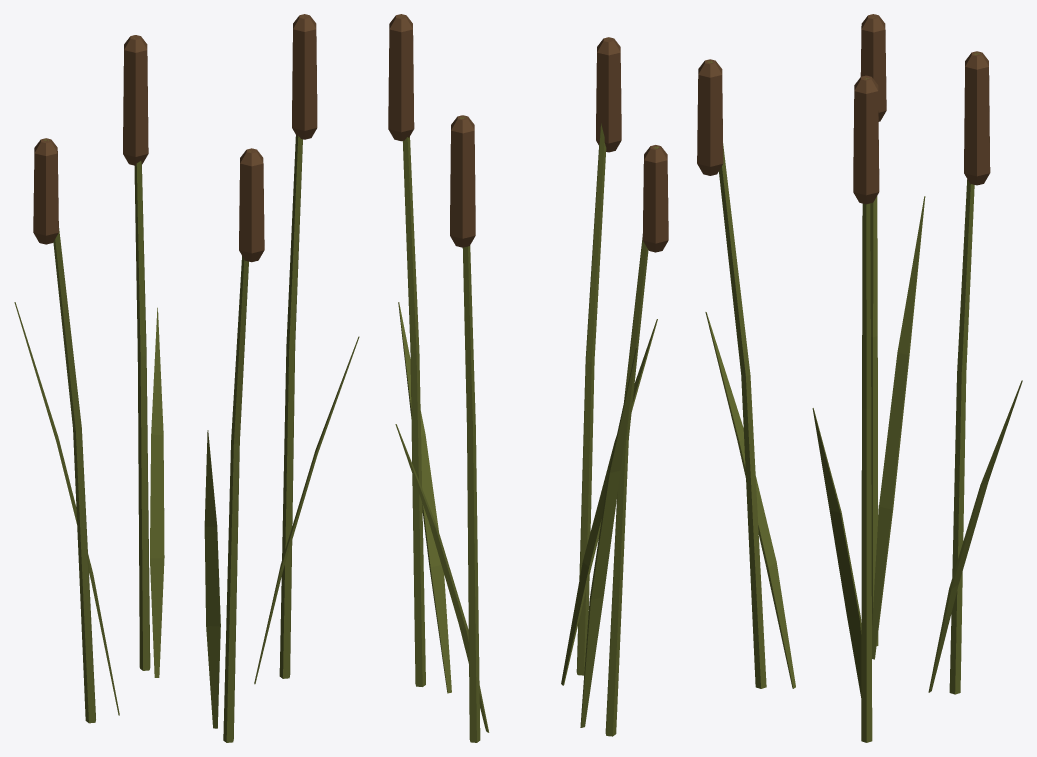
File: plant_006b_cattail.glb
3 views of the same model, side by side, from view 1: azimuth 30°, elevation 25°; view 2: azimuth 150°, elevation 25°; view 3: azimuth 270°, elevation 25° (orthographic). The views are drawn at different scales.
Visible parts, largest first — view 1: plant_006b_cattail__stalks, plant_006b_cattail__seed_heads, plant_006b_cattail__leaves; view 2: plant_006b_cattail__stalks, plant_006b_cattail__seed_heads, plant_006b_cattail__leaves; view 3: plant_006b_cattail__stalks, plant_006b_cattail__leaves, plant_006b_cattail__seed_heads.
Boxes of the visible parts, x1,y1,x2,y2 form: plant_006b_cattail__stalks: [44, 38, 302, 742]; plant_006b_cattail__seed_heads: [33, 14, 317, 262]; plant_006b_cattail__leaves: [14, 302, 359, 728]; plant_006b_cattail__stalks: [399, 16, 658, 742]; plant_006b_cattail__seed_heads: [388, 14, 668, 252]; plant_006b_cattail__leaves: [395, 302, 657, 732]; plant_006b_cattail__stalks: [707, 17, 979, 742]; plant_006b_cattail__leaves: [705, 196, 1022, 697]; plant_006b_cattail__seed_heads: [697, 14, 990, 204].
Size of the model in its own units: 0.7895 by 1.67 by 0.7322.
